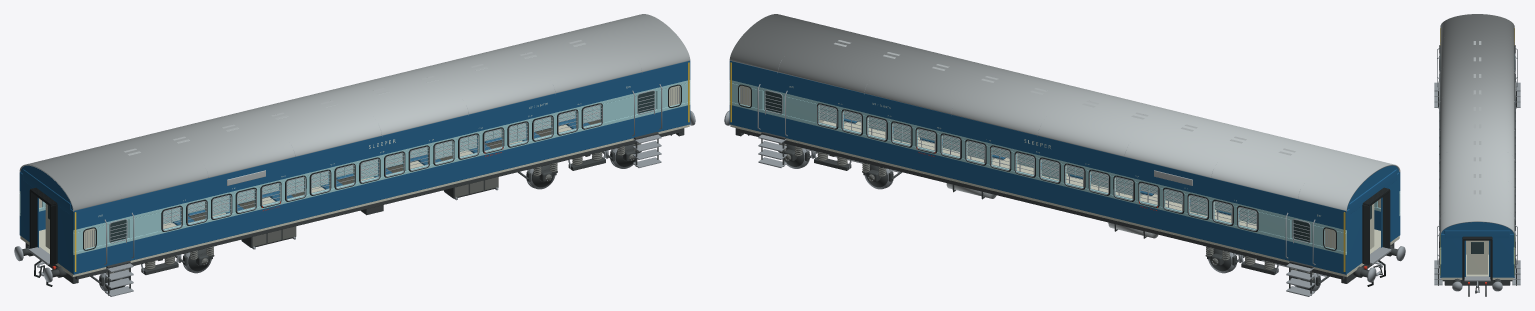
File: icf_sleeper_prototype.fbx
The picture shows the model from 3 angles, left to right: view 1: azimuth 30°, elevation 25°; view 2: azimuth 150°, elevation 25°; view 3: azimuth 270°, elevation 25°; orthographic projection. The views are drawn at different scales.
Visible parts, largest first — view 1: ICF compound-curved roof shell, Lower blue bodyside, Upper blue letterboard, Floor, Longitudinal solebar, Lower cyan band, Upper cyan band, Coach end wall, Coach end wall.001, Window pier.002, Window pier.020, End upper arch panel (+1 smaller); view 2: ICF compound-curved roof shell, Lower blue bodyside.001, Upper blue letterboard.001, Floor, Longitudinal solebar.001, Lower cyan band.001, Upper cyan band.001, Coach end wall.001, Coach end wall, Window pier.024, Window pier.042, End upper arch panel (+1 smaller); view 3: ICF compound-curved roof shell, Coach end wall.002, Coach end wall.003, Vestibule recessed inner door.001, End upper arch panel.001, Curved roof end cap.001, Buffer beam.001, Floor, Gangway tread plate.001, Vestibule door glazing.001, Gangway bellows fold.026, Gangway bellows fold.027 (+3 smaller).
Boxes of the visible parts, left/top/right/bottom form: ICF compound-curved roof shell: left=19, top=14, right=690, bottom=211; Lower blue bodyside: left=73, top=105, right=690, bottom=274; Upper blue letterboard: left=73, top=60, right=690, bottom=230; Floor: left=20, top=124, right=689, bottom=276; Longitudinal solebar: left=75, top=128, right=683, bottom=279; Lower cyan band: left=73, top=102, right=690, bottom=254; Upper cyan band: left=73, top=80, right=690, bottom=232; Coach end wall: left=57, top=206, right=73, bottom=274; Coach end wall.001: left=20, top=172, right=38, bottom=247; Window pier.002: left=128, top=211, right=161, bottom=238; Window pier.020: left=600, top=96, right=633, bottom=122; End upper arch panel: left=23, top=169, right=70, bottom=214; ICF compound-curved roof shell: left=729, top=14, right=1400, bottom=211; Lower blue bodyside.001: left=729, top=105, right=1346, bottom=274; Upper blue letterboard.001: left=729, top=60, right=1346, bottom=230; Floor: left=730, top=117, right=1399, bottom=276; Longitudinal solebar.001: left=736, top=128, right=1344, bottom=279; Lower cyan band.001: left=729, top=102, right=1346, bottom=254; Upper cyan band.001: left=729, top=80, right=1346, bottom=232; Coach end wall.001: left=1346, top=206, right=1362, bottom=274; Coach end wall: left=1381, top=172, right=1399, bottom=247; Window pier.024: left=1258, top=211, right=1291, bottom=238; Window pier.042: left=786, top=96, right=819, bottom=122; End upper arch panel: left=1349, top=169, right=1396, bottom=214; ICF compound-curved roof shell: left=1440, top=14, right=1514, bottom=234; Coach end wall.002: left=1441, top=234, right=1465, bottom=277; Coach end wall.003: left=1489, top=234, right=1513, bottom=277; Vestibule recessed inner door.001: left=1467, top=240, right=1487, bottom=274; End upper arch panel.001: left=1444, top=230, right=1510, bottom=238; Curved roof end cap.001: left=1441, top=222, right=1513, bottom=233; Buffer beam.001: left=1444, top=280, right=1510, bottom=285; Floor: left=1441, top=254, right=1513, bottom=279; Gangway tread plate.001: left=1464, top=276, right=1490, bottom=281; Vestibule door glazing.001: left=1471, top=242, right=1483, bottom=253; Gangway bellows fold.026: left=1462, top=239, right=1464, bottom=280; Gangway bellows fold.027: left=1490, top=239, right=1492, bottom=280.
Size of the model in its own units: 376 by 2230 by 405.
